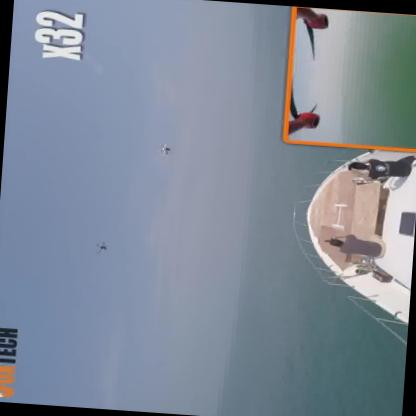drone: (152, 138, 175, 157), (92, 238, 109, 253)
